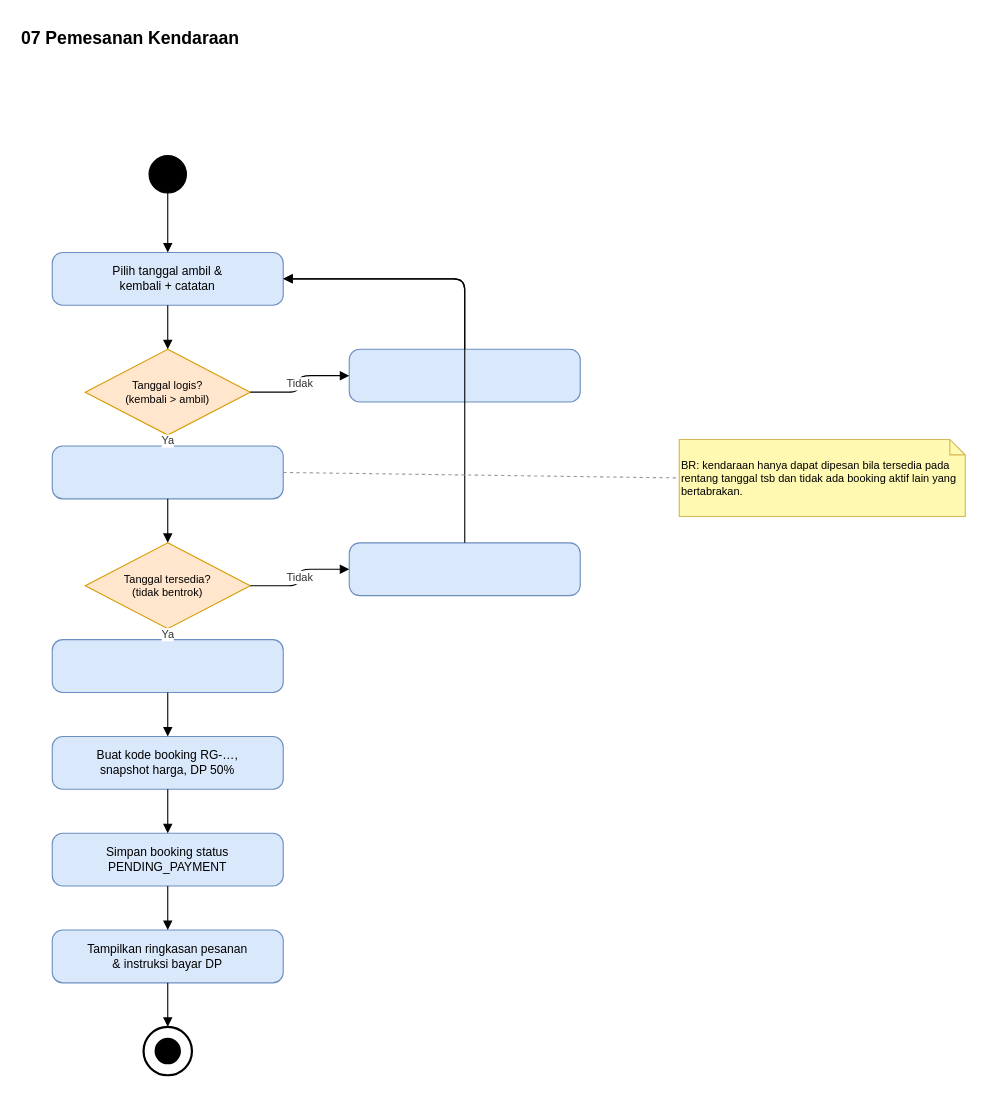
Image size: 985x1095. Some labels were removed from this diagram. Each missing label, with the box of its shape:
Pesan tanggal penuh, sarankan tanggal lain: (348, 542, 580, 596)
Pesan: perbaiki tanggal: (348, 348, 580, 402)
Sistem cek booking kendaraan lain pada rentang tanggal: (51, 445, 283, 499)
Sistem hitung lama sewa, total, & diskon (lihat hlm 08): (51, 639, 283, 692)
